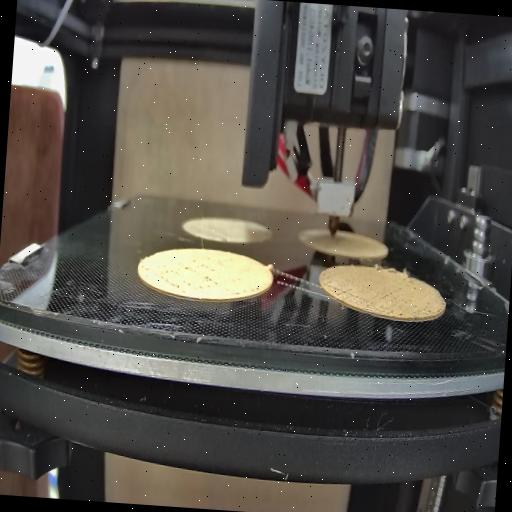under_extrusion: (159, 253, 222, 296), (378, 282, 432, 319), (328, 284, 366, 304), (238, 281, 261, 298)
